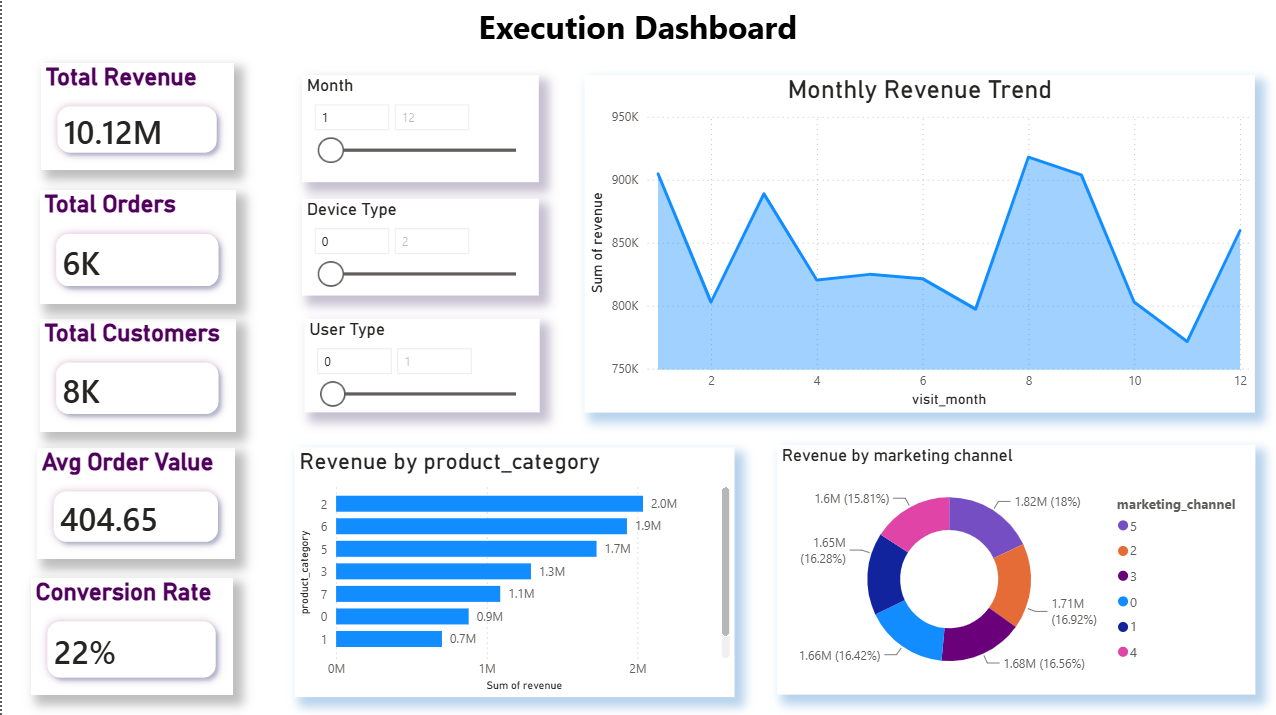

What the dashboard file says about the page in this screenshot:
{"tool":"powerbi","page":{"name":"Executive Dashboard","canvas":[1280,720],"ordinal":0},"visuals":[{"type":"textbox","box":[0,0,1280.5,67.9],"z":0},{"type":"cardVisual","title":"Total Revenue","fields":{"Data":["indian_ecommerce_cleaned.Total Revenue"]},"box":[38.4,62.1,193.1,107.3],"z":1000},{"type":"cardVisual","title":"Total Orders","fields":{"Data":["indian_ecommerce_cleaned.Total Orders"]},"box":[37.3,189.7,196.5,114],"z":2000},{"type":"cardVisual","title":"Total Customers","fields":{"Data":["indian_ecommerce_cleaned.Total Customers"]},"box":[37.3,318.4,196.5,112.9],"z":3000},{"type":"cardVisual","title":"Avg Order Value","fields":{"Data":["indian_ecommerce_cleaned.Average Order Value"]},"box":[35,447.1,198.7,111.8],"z":4000},{"type":"cardVisual","title":"Conversion Rate","fields":{"Data":["indian_ecommerce_cleaned.Conversion Rate"]},"box":[29.4,577,202.1,117.4],"z":5000},{"type":"lineChart","title":"Monthly Revenue Trend","fields":{"Y":["Sum(indian_ecommerce_cleaned.revenue)"],"Category":["indian_ecommerce_cleaned.visit_month"]},"box":[582.6,74.5,670.7,337.6],"z":6000},{"type":"clusteredBarChart","title":"Revenue by product_category","fields":{"Category":["indian_ecommerce_cleaned.product_category"],"Y":["Sum(indian_ecommerce_cleaned.revenue)"]},"box":[292.5,447.1,440.4,249.5],"z":7000},{"type":"donutChart","title":"Revenue by marketing channel","fields":{"Category":["indian_ecommerce_cleaned.marketing_channel"],"Y":["Sum(indian_ecommerce_cleaned.revenue)"]},"box":[774.6,444.9,478.8,249.5],"z":8000},{"type":"slicer","title":"Month","fields":{"Values":["indian_ecommerce_cleaned.visit_month"]},"box":[300.4,74.5,237.1,107.3],"z":9000},{"type":"slicer","title":"Device Type","fields":{"Values":["indian_ecommerce_cleaned.device_type"]},"box":[300.4,198.7,237.1,97.1],"z":10000},{"type":"slicer","title":"User Type","fields":{"Values":["indian_ecommerce_cleaned.user_type"]},"box":[302.6,318.4,234.9,93.7],"z":11000}]}

Visuals, with their boxes in screenshot pixels (x1, y1, x2, y2), scaled from the page's 1280x720 canvas onto the 1276x715 screenshot:
textbox: {"left": 0, "top": 0, "right": 1275, "bottom": 67}
"Total Revenue" cardVisual: {"left": 38, "top": 62, "right": 231, "bottom": 168}
"Total Orders" cardVisual: {"left": 37, "top": 188, "right": 233, "bottom": 302}
"Total Customers" cardVisual: {"left": 37, "top": 316, "right": 233, "bottom": 428}
"Avg Order Value" cardVisual: {"left": 35, "top": 444, "right": 233, "bottom": 555}
"Conversion Rate" cardVisual: {"left": 29, "top": 573, "right": 231, "bottom": 690}
"Monthly Revenue Trend" lineChart: {"left": 581, "top": 74, "right": 1249, "bottom": 409}
"Revenue by product_category" clusteredBarChart: {"left": 292, "top": 444, "right": 731, "bottom": 692}
"Revenue by marketing channel" donutChart: {"left": 772, "top": 442, "right": 1249, "bottom": 690}
"Month" slicer: {"left": 299, "top": 74, "right": 536, "bottom": 181}
"Device Type" slicer: {"left": 299, "top": 197, "right": 536, "bottom": 294}
"User Type" slicer: {"left": 302, "top": 316, "right": 536, "bottom": 409}
